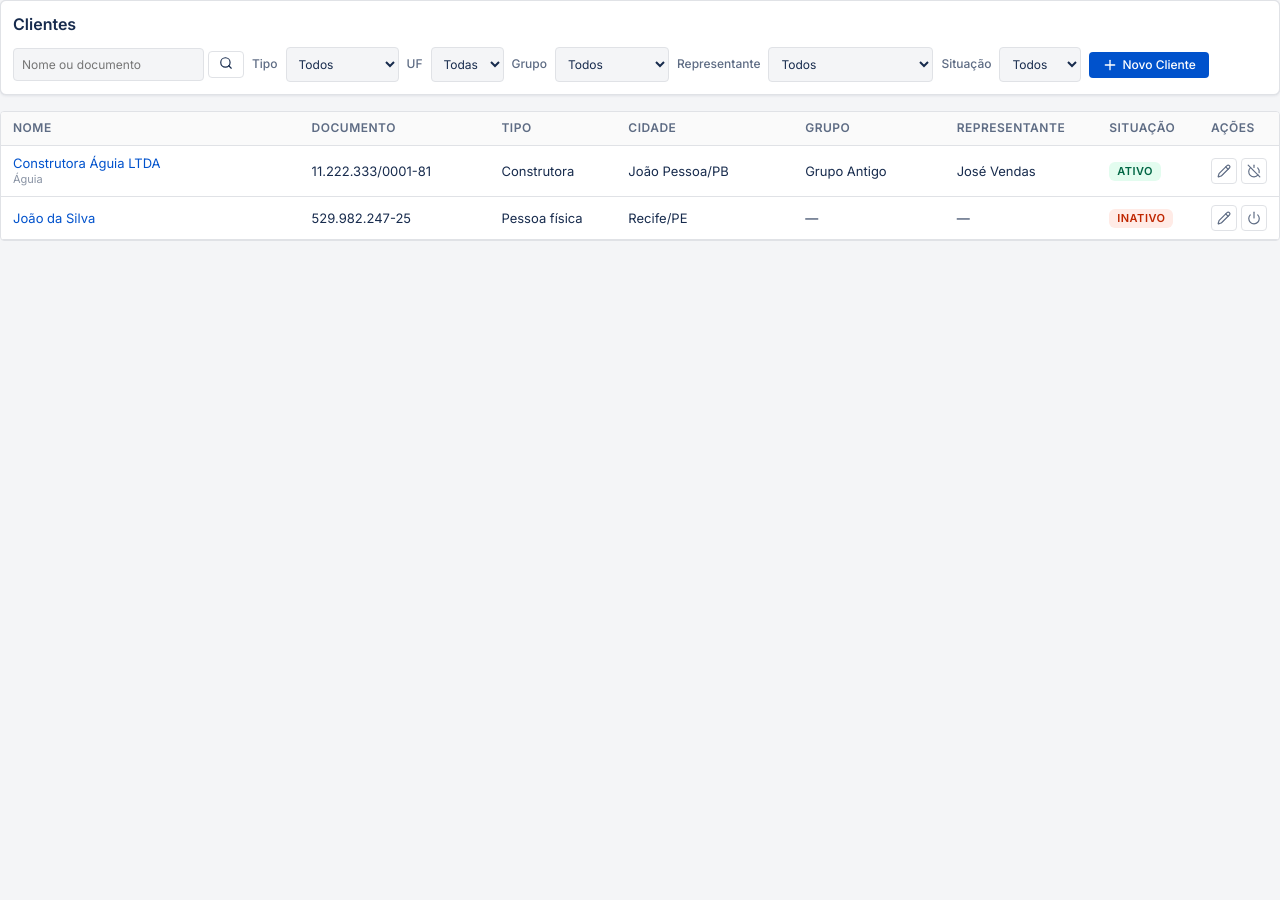
Test case: Clientes › valida documento, nome, cidade, UF, e-mail e a combinação de tipo com CPF
Expected: the link "Construtora Águia LTDA" is shown, [13,155,161,171]
Click the button "Novo Cliente" at x=1149, y=65, box [1090,52,1209,78]
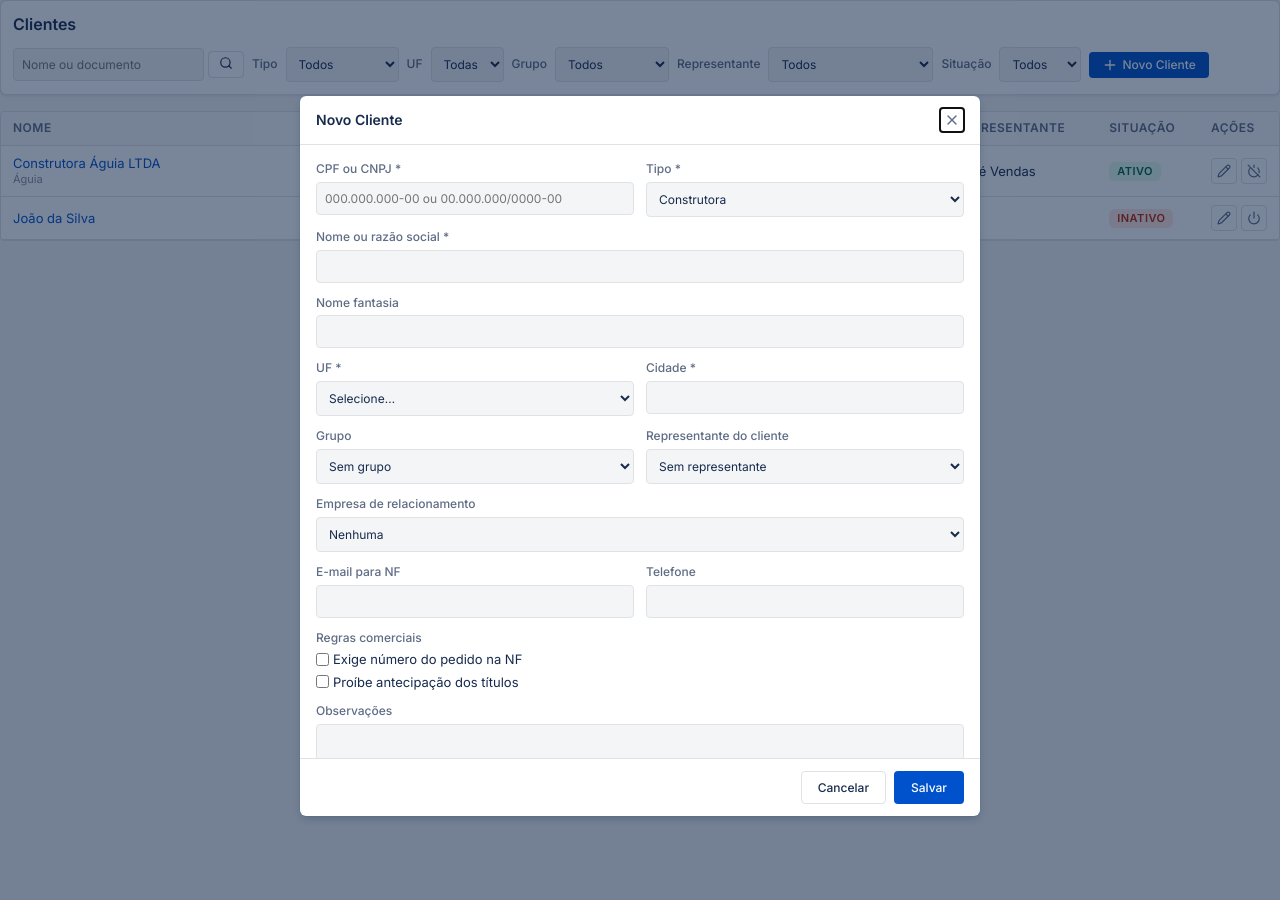
Type "529.982.247-25" into the field labelled "CPF ou CNPJ *" at x=475, y=198, box [316,182,634,215]
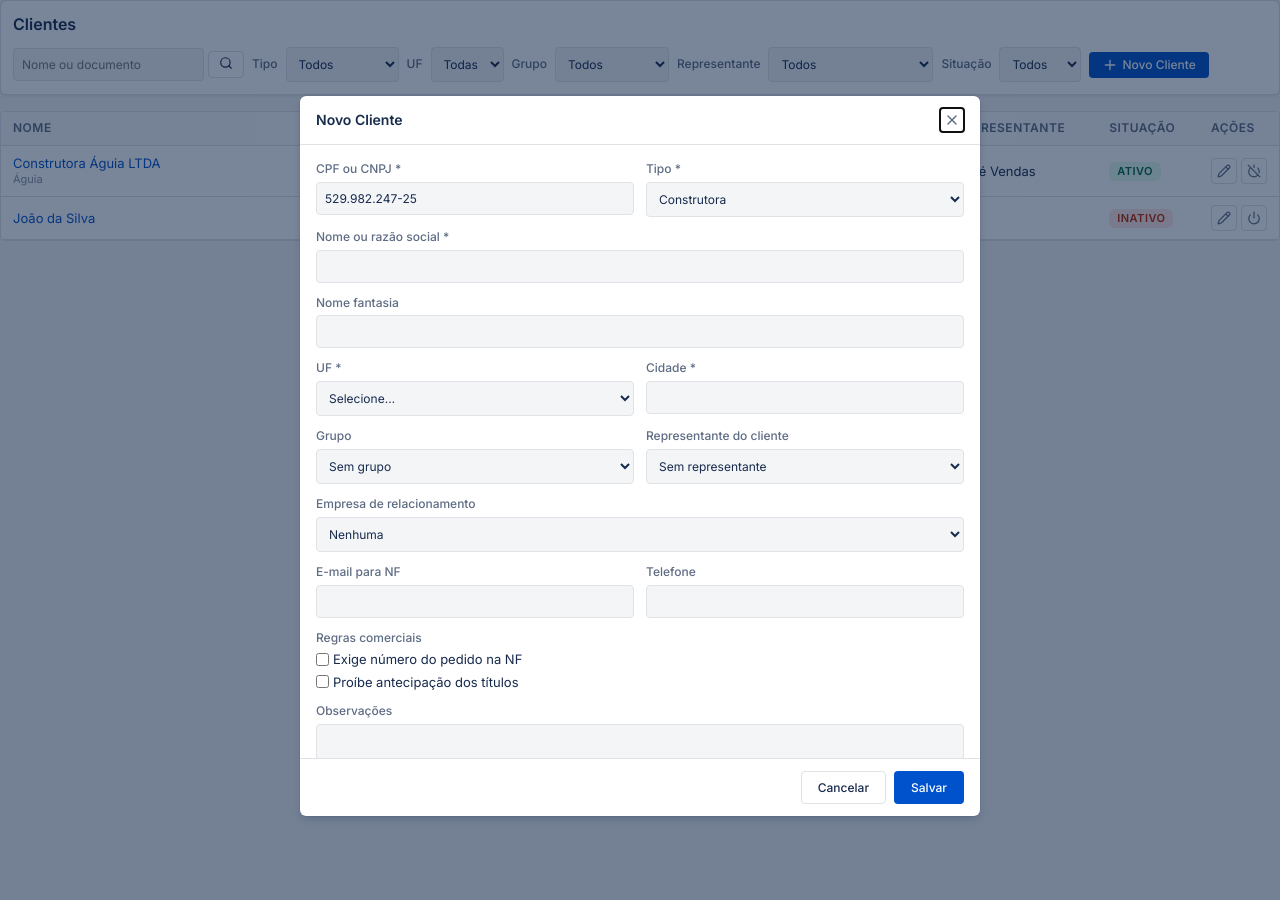
Select "Construtora" in the dropdown labelled "Tipo *" at x=805, y=199, box [646,182,964,217]
Type "sem-arroba" into the field labelled "E-mail para NF" at x=475, y=601, box [316,585,634,618]
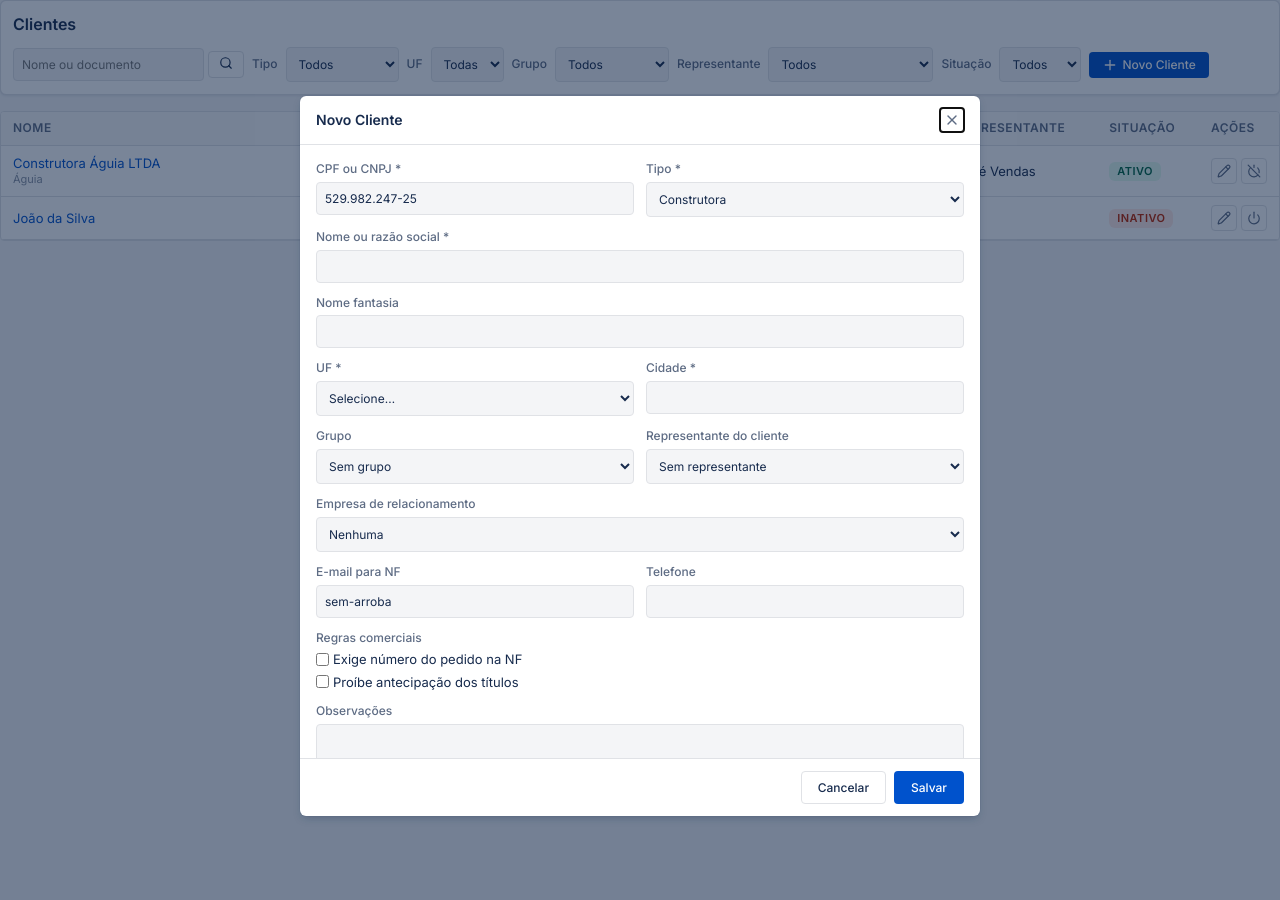
Click the button "Salvar" at x=929, y=788, box [894,771,964,804]
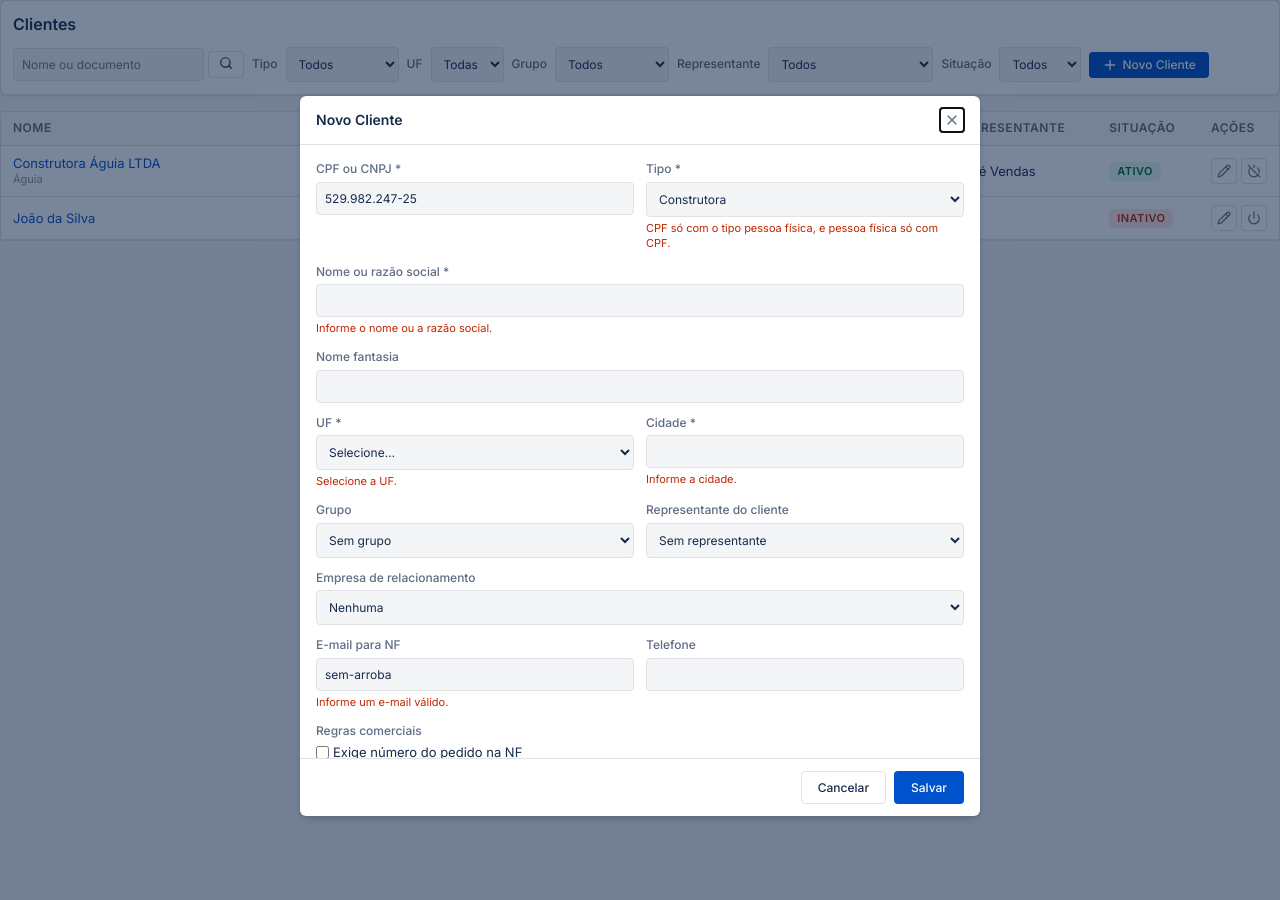
Expected: the text "CPF só com o tipo pessoa física, e pessoa física só com CPF." is shown, [646,221,964,252]
Expected: the text "Informe o nome ou a razão social." is shown, [316,321,492,335]
Expected: the text "Informe a cidade." is shown, [646,472,737,486]
